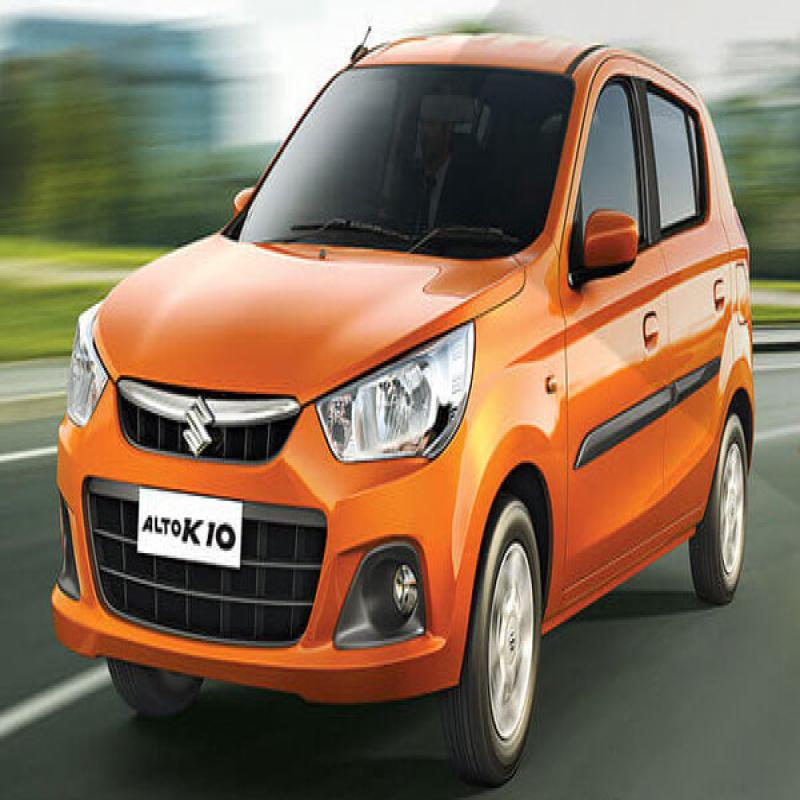car: (34, 8, 742, 796)
